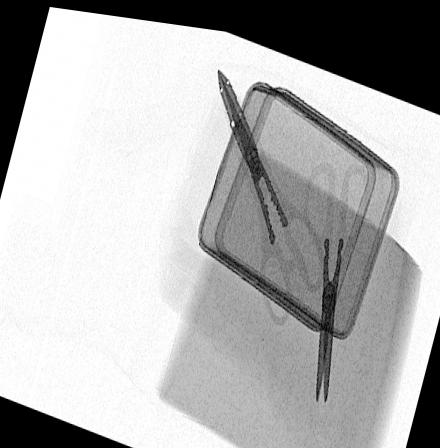Scissors: (214, 57, 328, 321), (302, 146, 371, 401)
